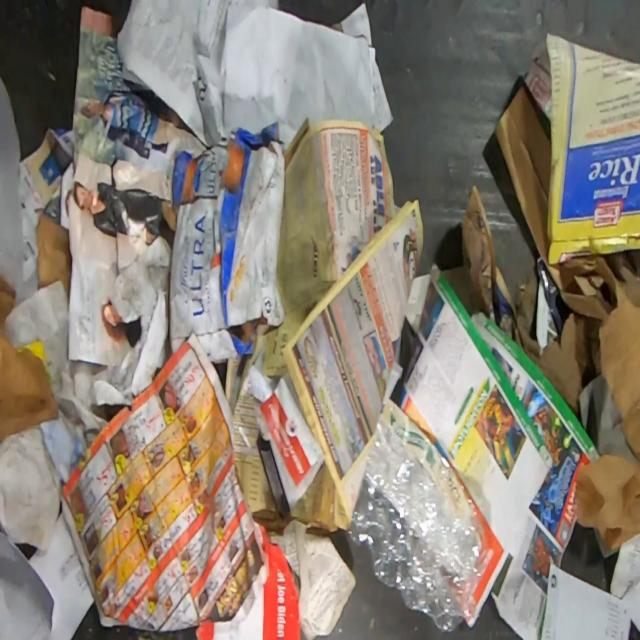cardboard: (168, 123, 287, 364), (523, 30, 640, 263)
soft_plastic: (349, 411, 486, 634)
